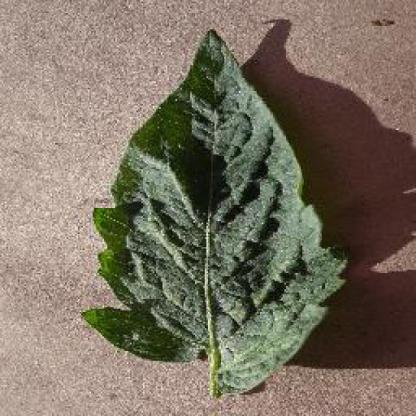Tomato_Spider_Mites: (81, 29, 352, 361)
